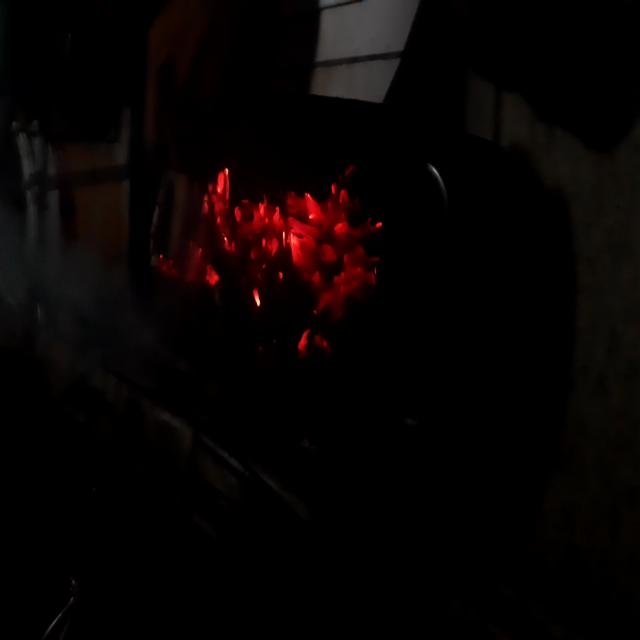Fire: (218, 149, 385, 318)
